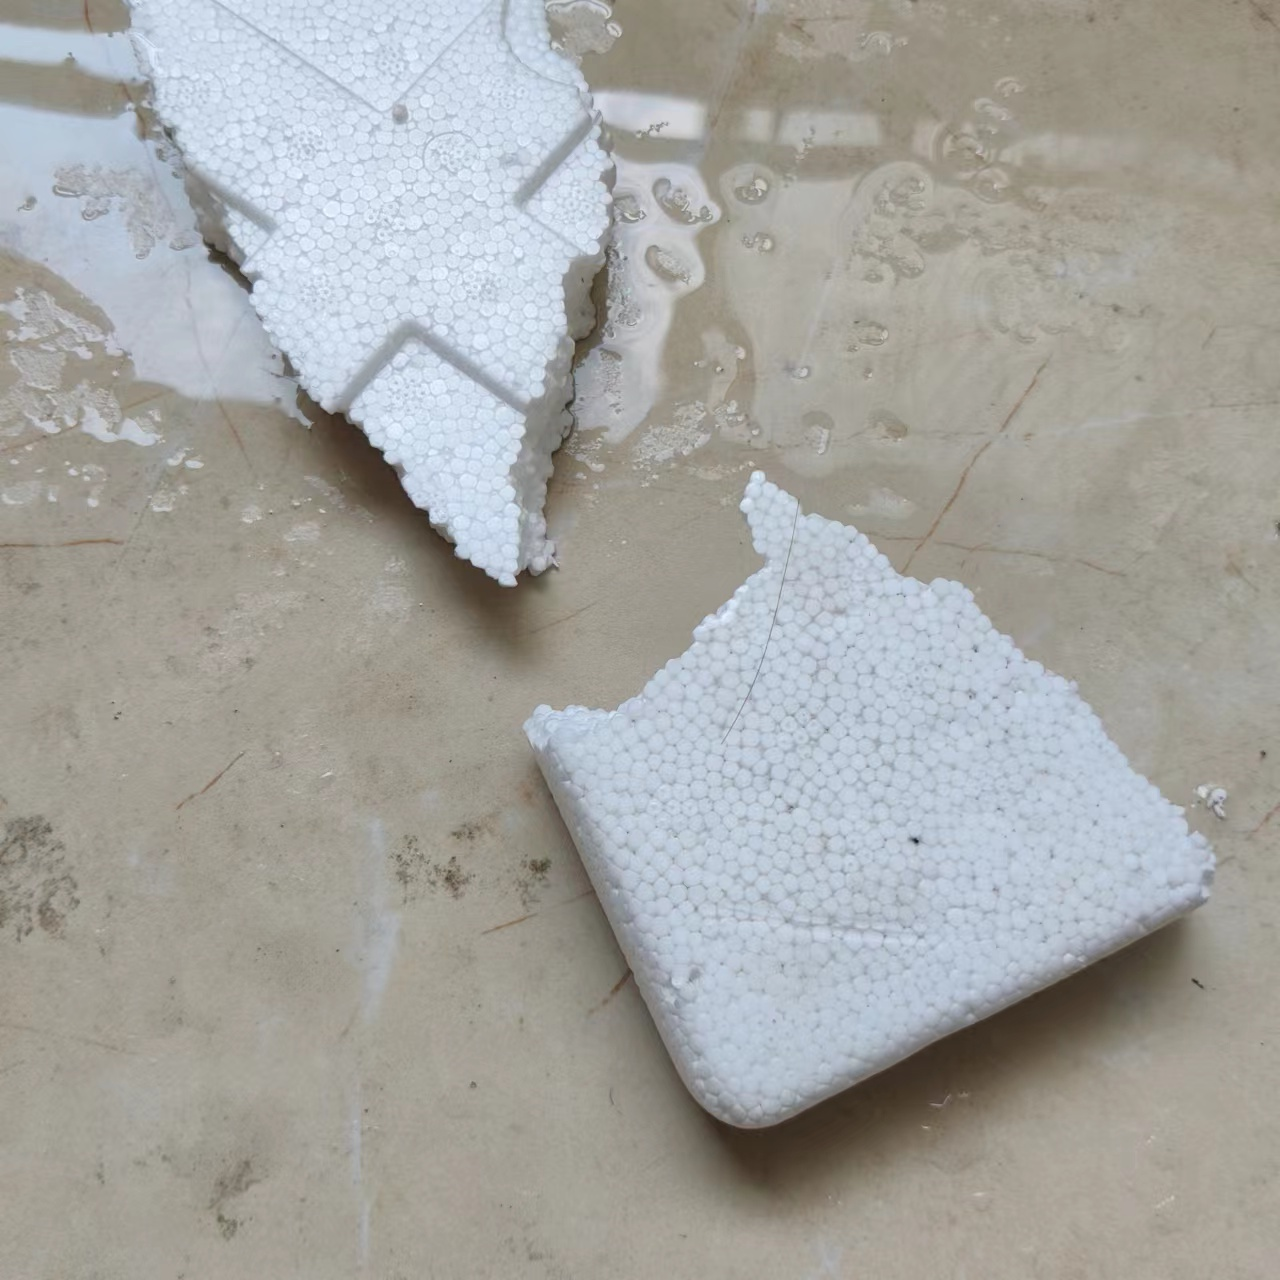5/可回收垃圾/泡沫: (518, 469, 1216, 1131), (125, 1, 617, 592)
